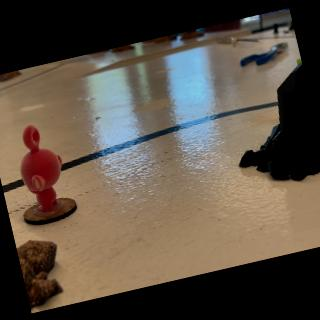teletubby: (20, 125, 61, 212), (296, 58, 301, 64)
